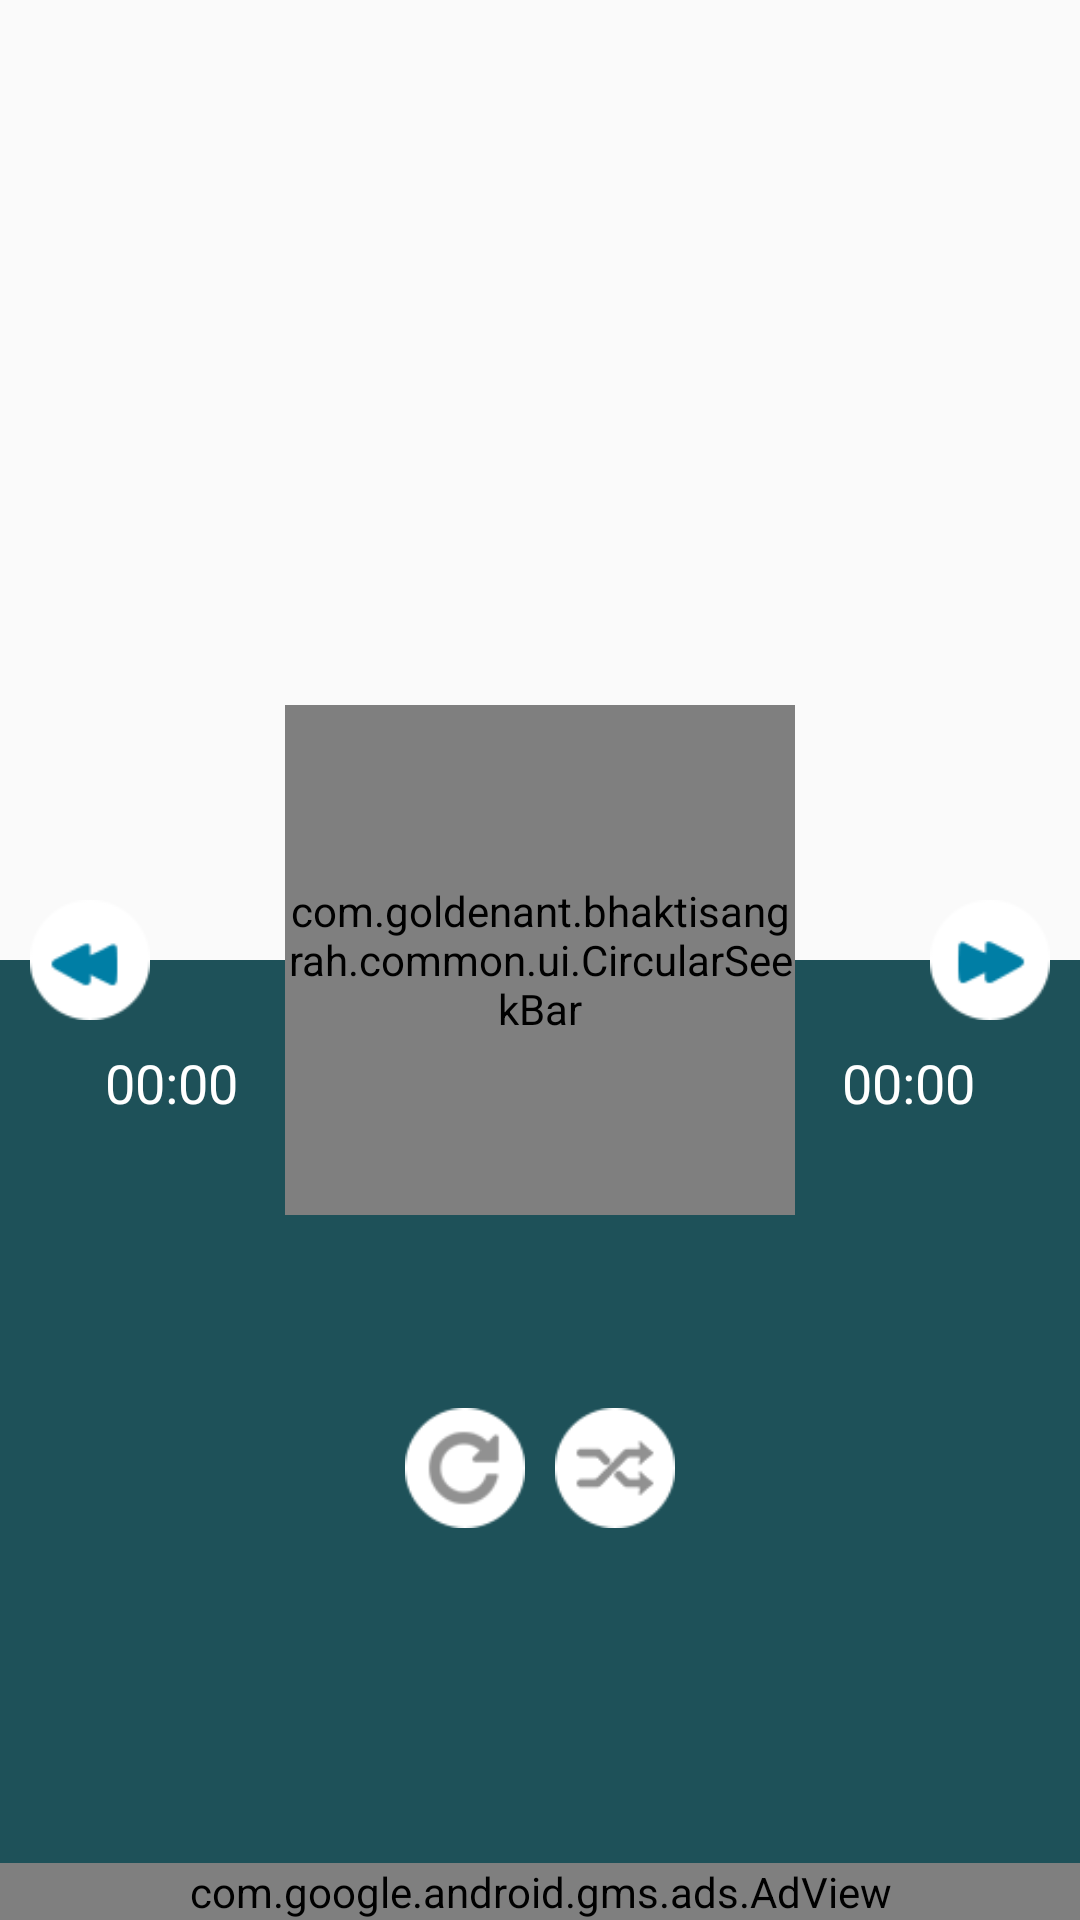

Screen size 1080x1920. Icon name, then its center in pixels as point (x, y):
next: point (990, 960)
previous: point (90, 960)
repeat off: point (465, 1468)
shuffle off: point (615, 1468)
